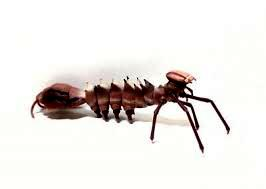Lobster Moth: (31, 66, 211, 148)
